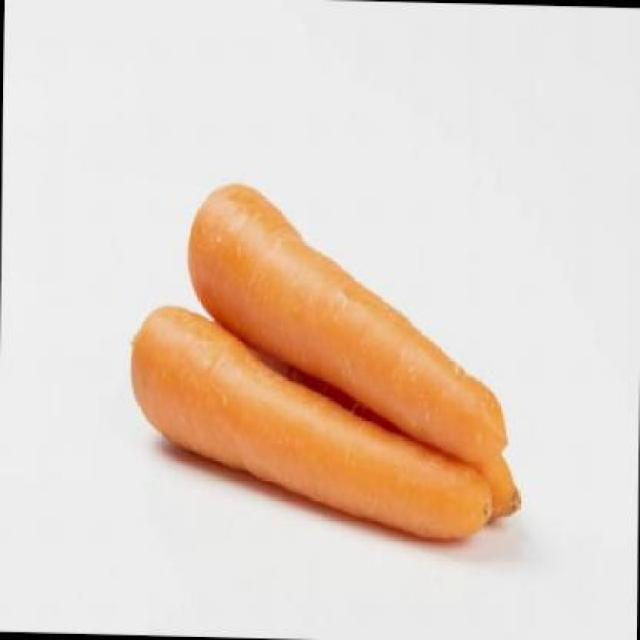carrot: (184, 182, 510, 466), (128, 306, 494, 543), (468, 451, 522, 529)
